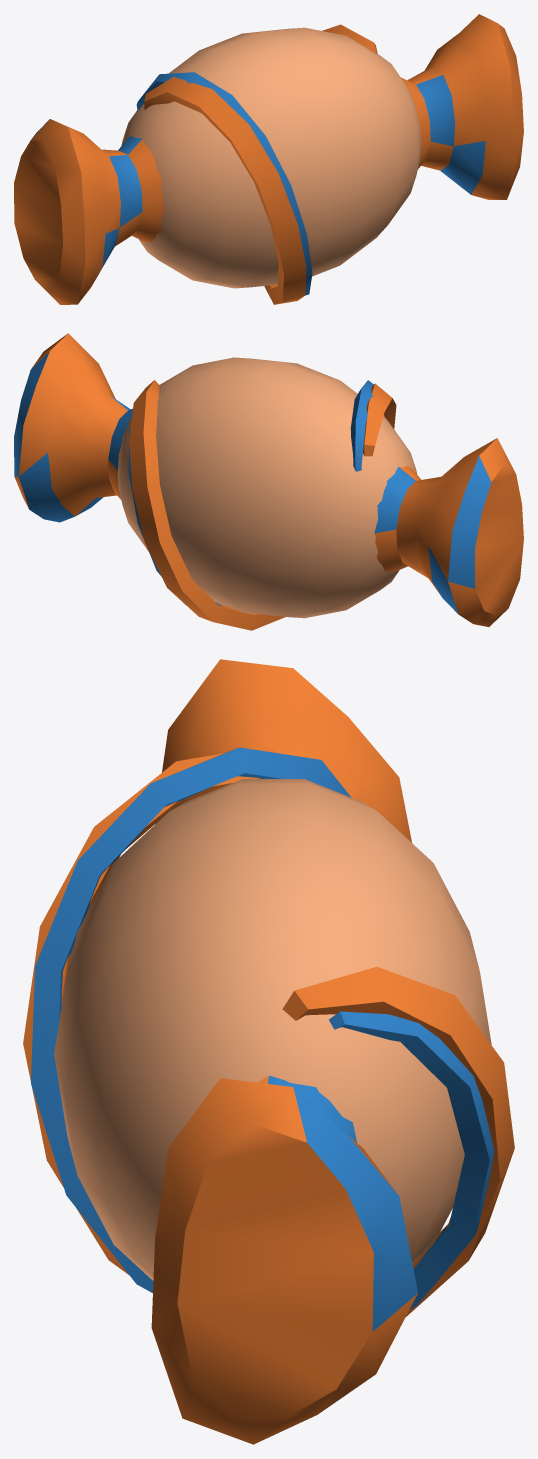
File: candy.glb
The picture shows the model from 3 angles, top to bottom: view 1: azimuth 30°, elevation 25°; view 2: azimuth 150°, elevation 25°; view 3: azimuth 270°, elevation 25°; orthographic projection. The views are drawn at different scales.
Parts seen in each view (by area): view 1: CandyBody, CandyWrapper, CandyRibbon; view 2: CandyBody, CandyWrapper, CandyRibbon; view 3: CandyBody, CandyWrapper, CandyRibbon.
Boxes of the visible parts, left/top/right/bottom form: CandyBody: left=121, top=27, right=421, bottom=288; CandyWrapper: left=14, top=14, right=523, bottom=304; CandyRibbon: left=136, top=24, right=377, bottom=304; CandyBody: left=117, top=357, right=417, bottom=618; CandyWrapper: left=14, top=333, right=523, bottom=626; CandyRibbon: left=128, top=380, right=396, bottom=630; CandyBody: left=54, top=779, right=491, bottom=1280; CandyWrapper: left=151, top=659, right=417, bottom=1444; CandyRibbon: left=23, top=746, right=514, bottom=1317.
Bounding box in the file's own units: 1.6 × 0.8426 × 0.7394.
